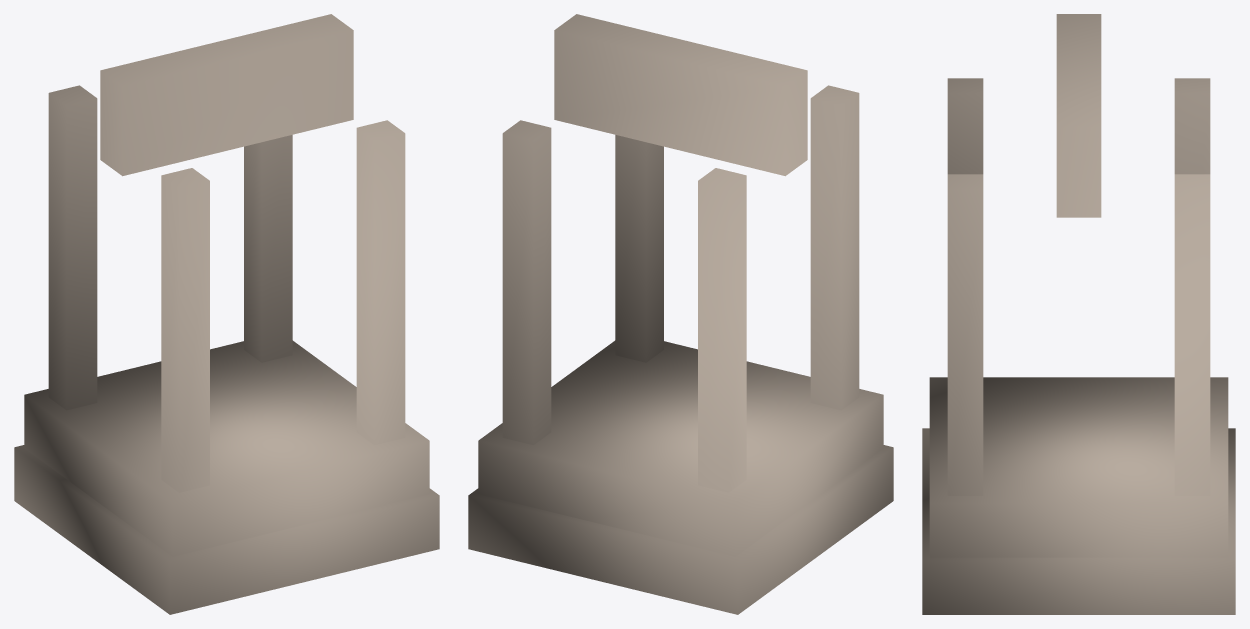
File: colosseum.obj
3 renders of one model, left to right at view 1: azimuth 30°, elevation 25°; view 2: azimuth 150°, elevation 25°; view 3: azimuth 270°, elevation 25°, orthographic.
Parts seen in each view (by area): view 1: building; view 2: building; view 3: building.
Part boxes in pixels (x1,y1,x2,y2): building: (14,14,439,614); building: (468,14,893,614); building: (922,14,1235,614).
Bounding box in the file's own units: 6.3 × 10.6 × 6.3.
